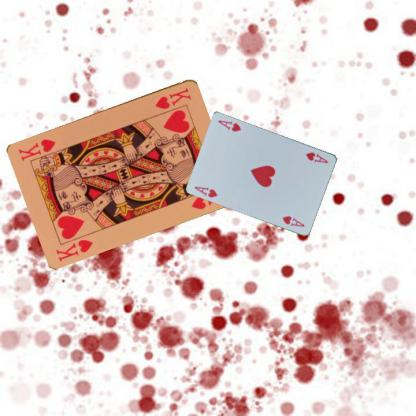Ah: (192, 184, 219, 198), (304, 150, 330, 164)
Kh: (53, 236, 94, 262), (152, 85, 192, 110)
